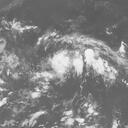cyclone: (38, 31, 114, 86)
